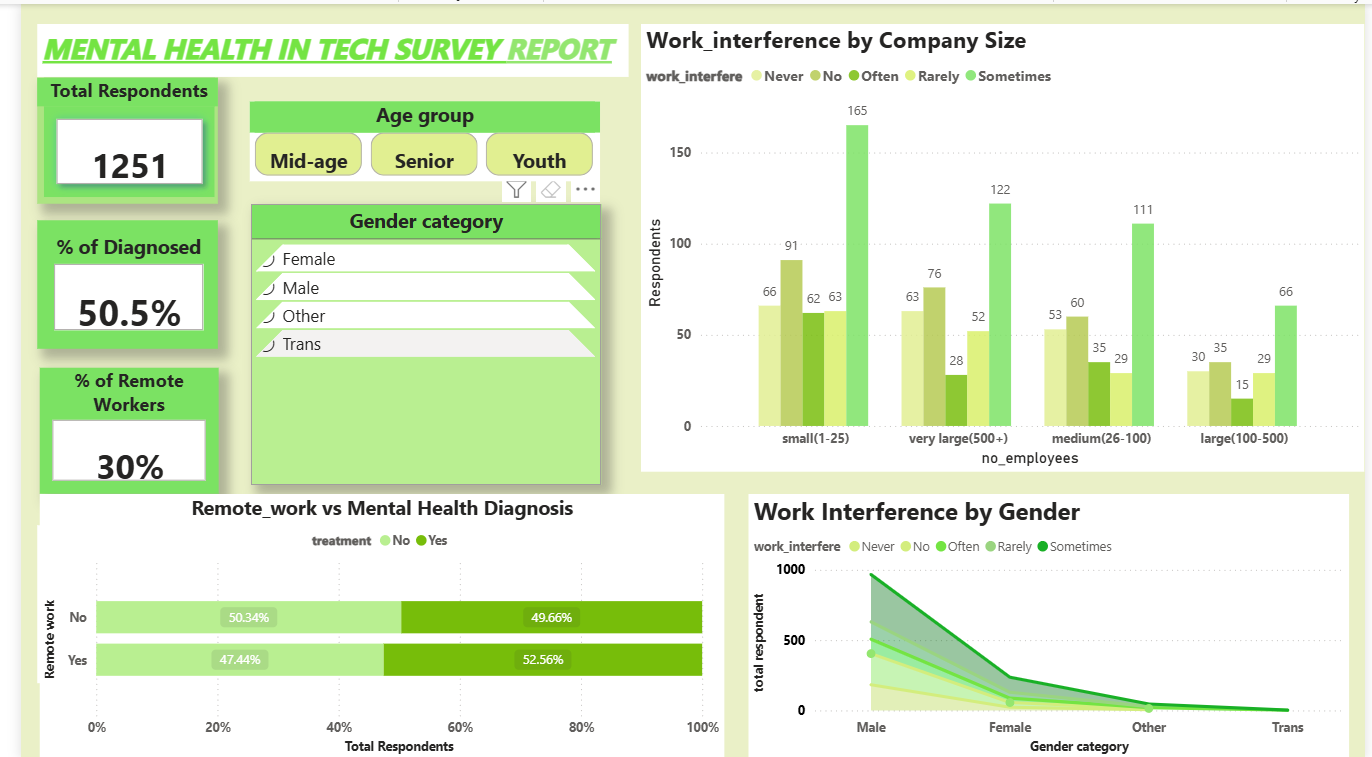

Layout of this report page (visuals, bound fields, positions):
{"tool":"powerbi","page":{"name":"Page 1","canvas":[1280,720],"ordinal":0},"visuals":[{"type":"cardVisual","title":"Total Respondents","fields":{"Data":["survey.Respondents"]},"box":[16,70,172,120],"z":0},{"type":"cardVisual","title":"% of Diagnosed","fields":{"Data":["survey.% OF DIAGNOSED"]},"box":[16,206,172,122],"z":1000},{"type":"textbox","box":[16,496,153,150],"z":2000},{"type":"textbox","box":[15.7,19.2,562.9,50.7],"z":3000},{"type":"cardVisual","title":"% of Remote Workers","fields":{"Data":["survey.% of Remote Workers"]},"box":[18,346,170,120],"z":4000},{"type":"listSlicer","fields":{"Values":["survey.gender normalised"]},"box":[218.5,190.6,333.9,267.5],"z":5000},{"type":"advancedSlicerVisual","fields":{"Values":["survey.Age group"]},"box":[218.3,92.3,333.7,76.3],"z":6000},{"type":"clusteredColumnChart","title":"Work_interference by Company Size","fields":{"Category":["survey.no_employees"],"Series":["survey.work_interfere"],"Y":["survey.Respondents"]},"box":[590.9,19.2,688.8,426.6],"z":7000},{"type":"hundredPercentStackedBarChart","title":"Remote_work vs Mental Health  Diagnosis","fields":{"Series":["survey.treatment"],"Category":["survey.remote_work"],"Y":["survey.total respondent"]},"box":[17.5,466.8,652.1,253.5],"z":8000},{"type":"stackedAreaChart","title":"Work Interference by Gender","fields":{"Category":["survey.Gender category"],"Series":["survey.work_interfere"],"Y":["survey.total respondent"]},"box":[692.3,466.8,571.7,253.5],"z":9000}]}

Visuals, with their boxes in screenshot pixels (x1, y1, x2, y2), scaled from the page's 1280x720 canvas onto the 1372x757 screenshot:
"Total Respondents" cardVisual: box(17, 74, 202, 200)
"% of Diagnosed" cardVisual: box(17, 217, 202, 345)
textbox: box(17, 521, 181, 679)
textbox: box(17, 20, 620, 73)
"% of Remote Workers" cardVisual: box(19, 364, 202, 490)
listSlicer - survey.gender normalised: box(234, 200, 592, 482)
advancedSlicerVisual - survey.Age group: box(234, 97, 592, 177)
"Work_interference by Company Size" clusteredColumnChart: box(633, 20, 1371, 469)
"Remote_work vs Mental Health  Diagnosis" hundredPercentStackedBarChart: box(19, 491, 718, 756)
"Work Interference by Gender" stackedAreaChart: box(742, 491, 1355, 756)
